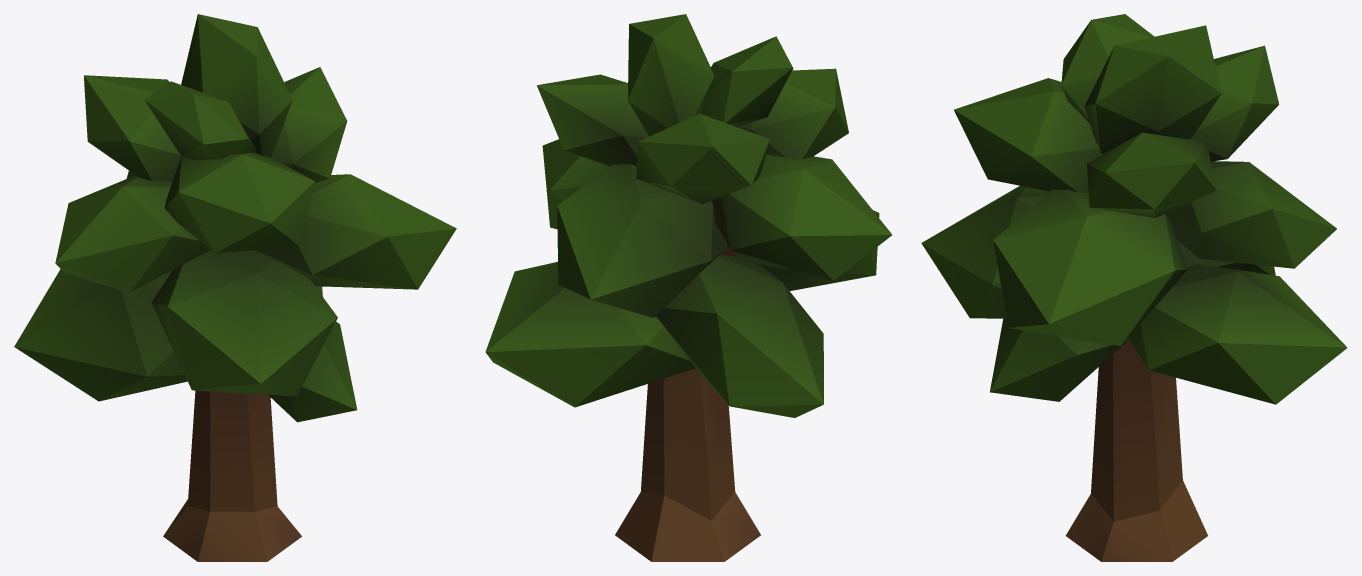
File: Tree.glb
3 renders of one model, left to right at view 1: azimuth 30°, elevation 25°; view 2: azimuth 150°, elevation 25°; view 3: azimuth 270°, elevation 25°, orthographic. The views are drawn at different scales.
Parts seen in each view (by area): view 1: Plane.403; view 2: Plane.403; view 3: Plane.403.
Boxes of the visible parts, <box> form: Plane.403: <box>14,14,456,561</box>; Plane.403: <box>485,14,892,561</box>; Plane.403: <box>921,14,1347,561</box>.
Size of the model in its own units: 1.64 by 2.12 by 1.61.
